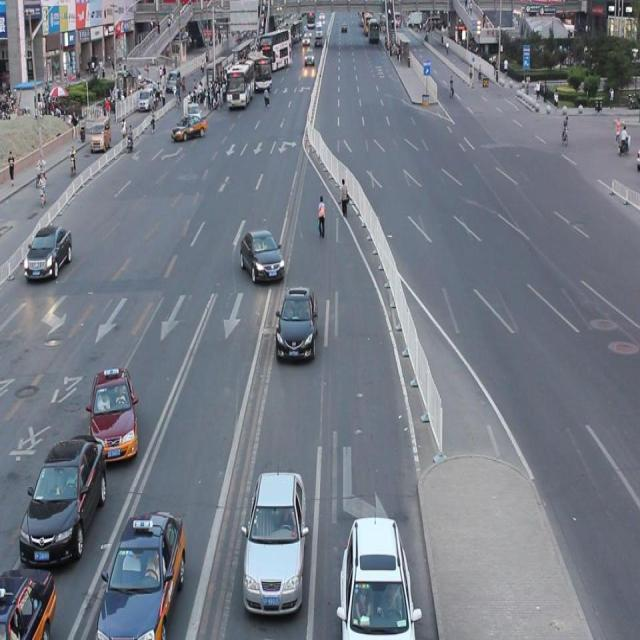car: (96, 506, 186, 640), (20, 431, 106, 565), (338, 512, 416, 640), (240, 466, 307, 614), (89, 366, 139, 464), (1, 565, 56, 640), (274, 282, 318, 364), (23, 223, 73, 282), (238, 226, 285, 284)
